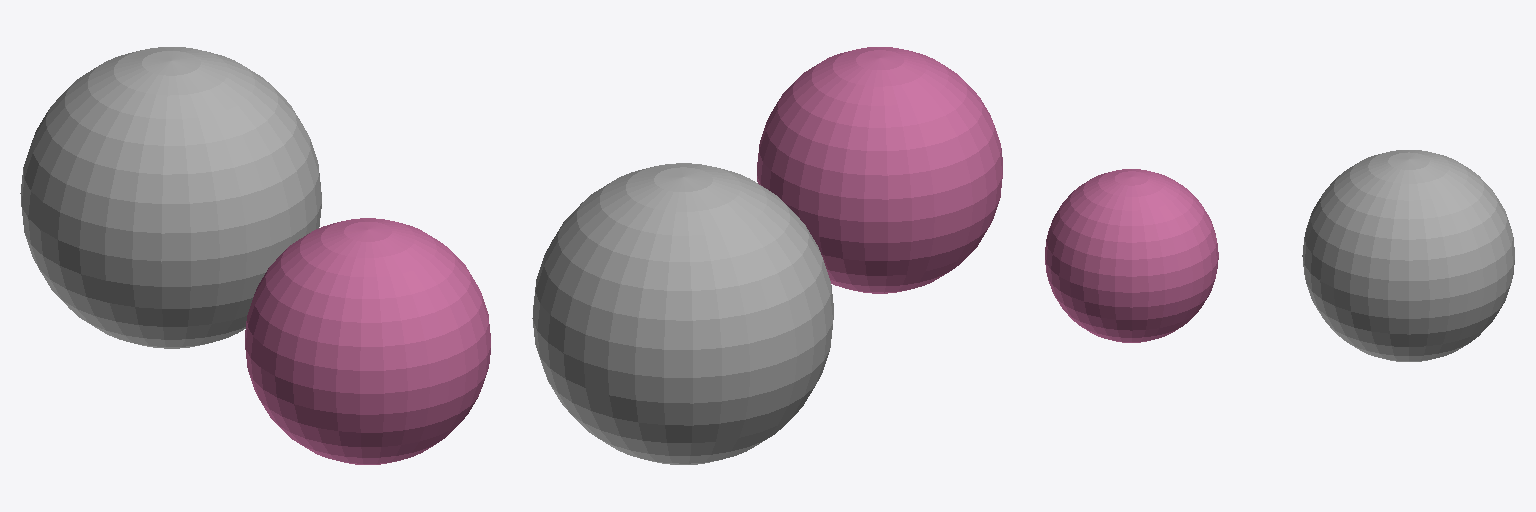
The robot description file, URDF, robot "dumpUrdf":
<robot name="dumpUrdf">
<link name="world"/>
  <link name="link0_x">
		<inertial>
			<origin rpy="0.00000 -0.00000 0.00000" xyz="0.00000 0.00000 0.00000"/>
			<mass value="0.00000"/>
			<inertia ixx="0.00000" ixy="0" ixz="0" iyy="0.00000" iyz="0" izz="0.00000"/>
		</inertial>
	</link>
	<joint name="joint0" type="prismatic">
    <parent link="world"/>
    <child link="link0_x"/>
    <origin rpy="0 0 0" xyz="0 0 0"/>
    <axis xyz="1 0 0"/>
    <dynamics damping="1.0" friction="1.0"/>
    <limit lower="-1000" upper="1000" />
  </joint>
  
	<link name="link0_y">
		<inertial>
			<origin rpy="0.00000 -0.00000 0.00000" xyz="0.00000 0.00000 0.00000"/>
			<mass value="0.00000"/>
			<inertia ixx="0.00000" ixy="0" ixz="0" iyy="0.00000" iyz="0" izz="0.00000"/>
		</inertial>
	</link>
	<joint name="joint1" type="prismatic">
    <parent link="link0_x"/>
    <child link="link0_y"/>
    <origin rpy="0 0 0" xyz="0 0 0"/>
    <axis xyz="0 1 0"/>
    <dynamics damping="1.0" friction="1.0"/>
    <limit lower="-1000" upper="1000" />
  </joint>
	<link name="link0_z">
		<inertial>
			<origin rpy="0.00000 -0.00000 0.00000" xyz="0.00000 0.00000 0.00000"/>
			<mass value="0.00000"/>
			<inertia ixx="0.00000" ixy="0" ixz="0" iyy="0.00000" iyz="0" izz="0.00000"/>
		</inertial>
	</link>
	<joint name="joint2" type="prismatic">
    <parent link="link0_y"/>
    <child link="link0_z"/>
    <origin rpy="0 0 0" xyz="0 0 0"/>
    <axis xyz="0 0 1"/>
    <dynamics damping="1.0" friction="1.0"/>
    <limit lower="-1000" upper="1000" />
  </joint>
  
  <link name="link0_rotx">
		<inertial>
			<origin rpy="0.00000 -0.00000 0.00000" xyz="0.00000 0.00000 0.00000"/>
			<mass value="0.00000"/>
			<inertia ixx="0.00000" ixy="0" ixz="0" iyy="0.00000" iyz="0" izz="0.00000"/>
		</inertial>
	</link>
	<joint name="joint_rotx" type="continuous">
    <parent link="link0_z"/>
    <child link="link0_rotx"/>
    <origin rpy="0 0 0" xyz="0 0 0"/>
    <axis xyz="1 0 0"/>
    <dynamics damping="1.0" friction="1.0"/>
    <limit lower="-1000" upper="1000" />
  </joint>
  
    <link name="link0_roty">
		<inertial>
			<origin rpy="0.00000 -0.00000 0.00000" xyz="0.00000 0.00000 0.00000"/>
			<mass value="0.00000"/>
			<inertia ixx="0.00000" ixy="0" ixz="0" iyy="0.00000" iyz="0" izz="0.00000"/>
		</inertial>
	</link>
	<joint name="joint_roty" type="continuous">
    <parent link="link0_rotx"/>
    <child link="link0_roty"/>
    <origin rpy="0 0 0" xyz="0 0 0"/>
    <axis xyz="0 1 0"/>
    <dynamics damping="1.0" friction="1.0"/>
    <limit lower="-1000" upper="1000" />
  </joint>
  
	<link name="torso" >
		<inertial>
				<origin rpy = "0 0 0" xyz = "0.000000 0.280000 0.000000" />
			 <mass value = "6.000000" />
			<inertia ixx="0.31104" ixy="0" ixz="0" iyy="0.31104" iyz="0" izz="0.31104"/>
		</inertial>
			<visual>
				<origin rpy = "0 0 0" xyz = "0.000000 0.280000 0.000000" />
			<geometry>
				<sphere radius = "0.360000" />
			</geometry>
		</visual>
		<collision>
				<origin rpy = "0 0 0" xyz = "0.000000 0.280000 0.000000" />
			<geometry>
				<sphere radius = "0.360000" />
			</geometry>
		</collision>
	</link>
	<joint name="joint_rotz" type="continuous">
    <parent link="link0_roty"/>
    <child link="torso"/>
    <origin rpy="0 0 0" xyz="0 0 0"/>
    <axis xyz="0 0 1"/>
    <dynamics damping="1.0" friction="1.0"/>
  </joint>
	<link name="chest" >
		<inertial>
				<origin rpy = "0 0 0" xyz = "0.000000 0.480000 0.000000" />
			 <mass value = "14.000000" />
			<inertia ixx="1.08416" ixy="0" ixz="0" iyy="1.08416" iyz="0" izz="1.08416"/>
		</inertial>
		<visual>
				<origin rpy = "0 0 0" xyz = "0.000000 0.480000 0.000000" />
			<geometry>
				<sphere radius = "0.440000" />
			</geometry>
		</visual>
		<collision>
				<origin rpy = "0 0 0" xyz = "0.000000 0.480000 0.000000" />
			<geometry>
				<sphere radius = "0.440000" />
			</geometry>
		</collision>
	</link>
	<joint name="chest" type="fixed" >
		<parent link="torso" />
		<child link="chest" />
		<origin rpy = "0 0 0" xyz = "0.000000 0.944604 0.000000" />
		<axis xyz="1 0 0"/>
	</joint>
	
	<link name="right_shoulder" >
		<inertial>
				<origin rpy = "0 0 0" xyz = "0.000000 -0.560000 0.000000" />
			 <mass value = "1.500000" />
			<inertia ixx="0.16272" ixy="0" ixz="0" iyy="0.03276" iyz="0" izz="0.16272"/>
		</inertial>
		<visual>
				<origin rpy = "-1.570796 0 0" xyz = "0.000000 -0.560000 0.000000" />
			<geometry>
				<capsule length="0.720000" radius="0.180000"/>
			</geometry>
		</visual>
		<collision>
				<origin rpy = "-1.570796 0 0" xyz = "0.000000 -0.560000 0.000000" />
			<geometry>
				<capsule length="0.720000" radius="0.180000"/>
			</geometry>
		</collision>
	</link>
	<joint name="right_shoulder" type="fixed" >
		<parent link="chest" />
		<child link="right_shoulder" />
		<origin rpy = "0 0 0" xyz = "-0.096200 0.974000 0.732440" />
		<axis xyz="1 0 0"/>
	</joint>
	<link name="right_elbow" >
		<inertial>
				<origin rpy = "0 0 0" xyz = "0.000000 -0.480000 0.000000" />
			 <mass value = "1.000000" />
			<inertia ixx="0.07056" ixy="0" ixz="0" iyy="0.01728" iyz="0" izz="0.07056"/>
		</inertial>
		<visual>
				<origin rpy = "-1.570796 0 0" xyz = "0.000000 -0.480000 0.000000" />
			<geometry>
				<capsule length="0.540000" radius="0.160000"/>
			</geometry>
		</visual>
		<collision>
				<origin rpy = "-1.570796 0 0" xyz = "0.000000 -0.480000 0.000000" />
			<geometry>
				<capsule length="0.540000" radius="0.160000"/>
			</geometry>
		</collision>
	</link>
	<joint name="right_elbow" type="fixed" >
		<parent link="right_shoulder" />
		<child link="right_elbow" />
		<limit effort="1000.0" lower="0" upper="3.14" velocity="0.5"/>
		<origin rpy = "0 0 0" xyz = "0.000000 -1.099152 0.000000" />
		<axis xyz = "0.000000 0.000000 1.000000" />
	</joint>
</robot>

--- What the picture shows (computed from the rendered views, not written in the file) ---
The picture shows the robot from 3 angles, left to right: view 1: azimuth 30°, elevation 25°; view 2: azimuth 150°, elevation 25°; view 3: azimuth 270°, elevation 25°; orthographic projection.
Model dumpUrdf with 10 links and 9 joints (3 continuous, 3 prismatic, 3 fixed), rooted at world, posed every joint at zero.
Visible links, largest first — view 1: chest, torso; view 2: chest, torso; view 3: chest, torso.
Link boxes in pixels (x1=…): chest: x1=20, y1=47, x2=321, y2=348; torso: x1=245, y1=218, x2=490, y2=464; chest: x1=532, y1=163, x2=833, y2=464; torso: x1=757, y1=47, x2=1002, y2=293; chest: x1=1302, y1=150, x2=1514, y2=361; torso: x1=1045, y1=169, x2=1218, y2=342.
Bounding box of the posed robot: 0.88 × 1.94 × 0.88 m (x, y, z).
Geometry: primitives only (box / cylinder / sphere), no mesh files.